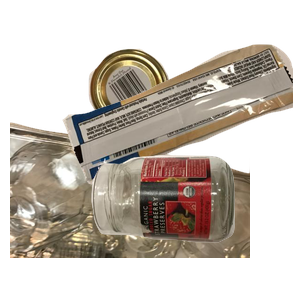glass: (89, 153, 300, 300)
metal: (86, 46, 248, 169)
plastic: (10, 120, 250, 300)
trash: (60, 42, 300, 219)
